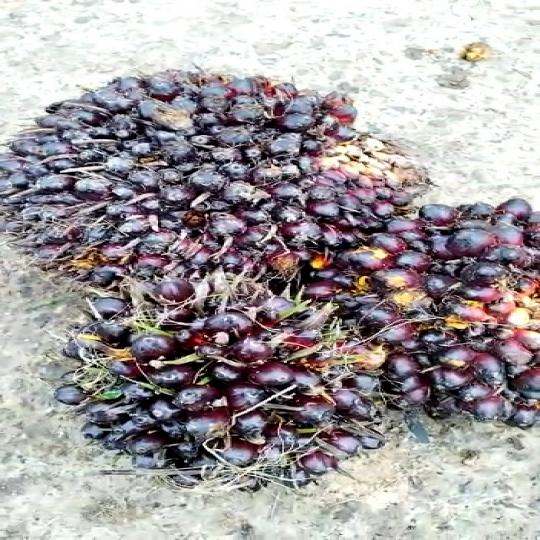kurang masak: (38, 269, 428, 522), (0, 59, 402, 295), (312, 197, 540, 433)
